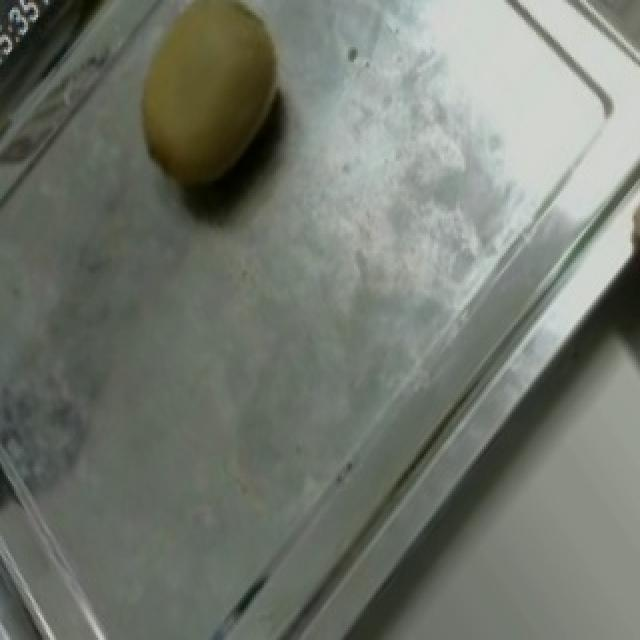Fruit: (102, 0, 320, 221)
